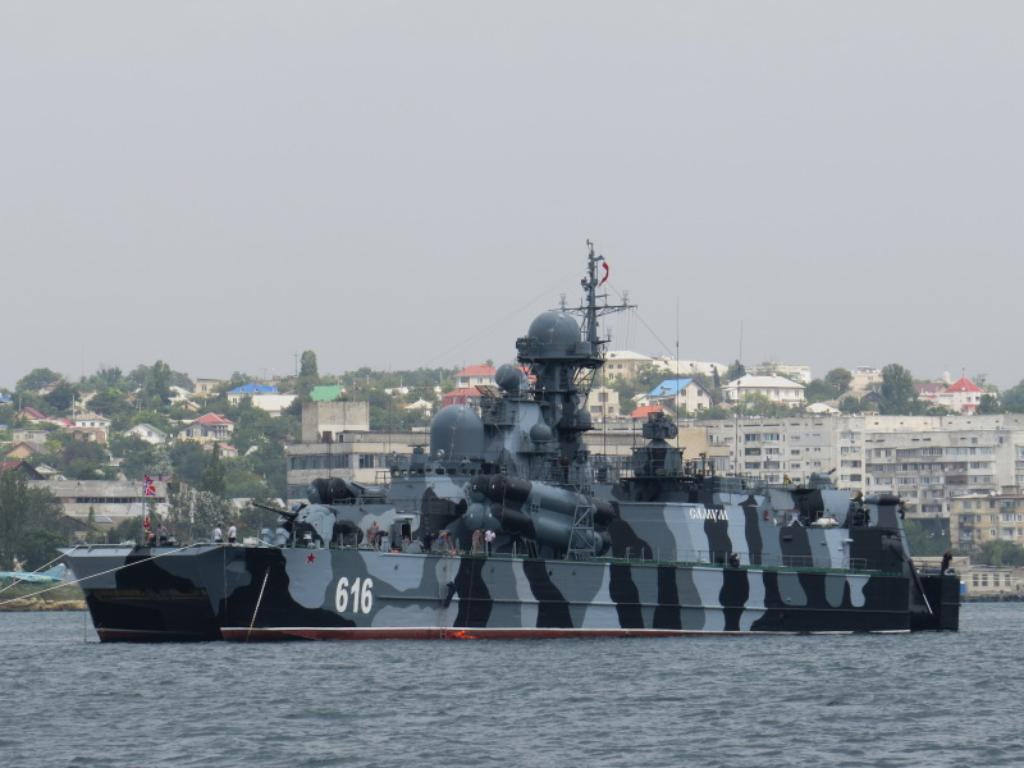Warship: (53, 228, 963, 644)
